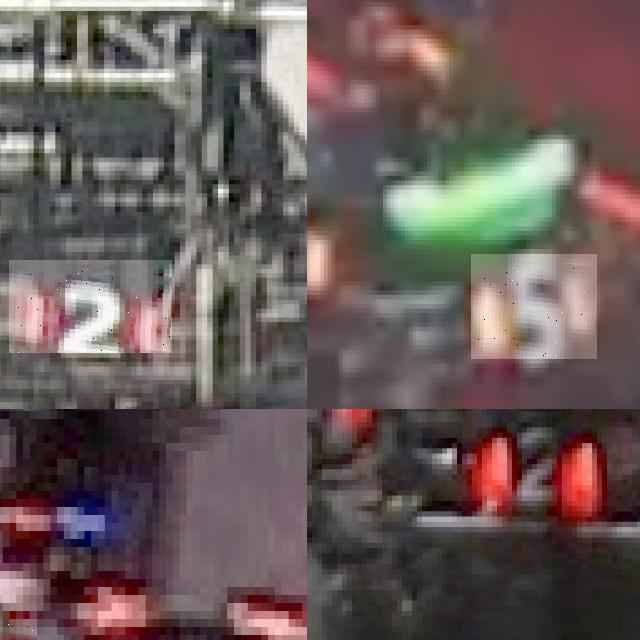R2: (9, 260, 172, 353), (472, 417, 607, 522)
R5: (471, 254, 597, 359), (307, 176, 338, 304)
